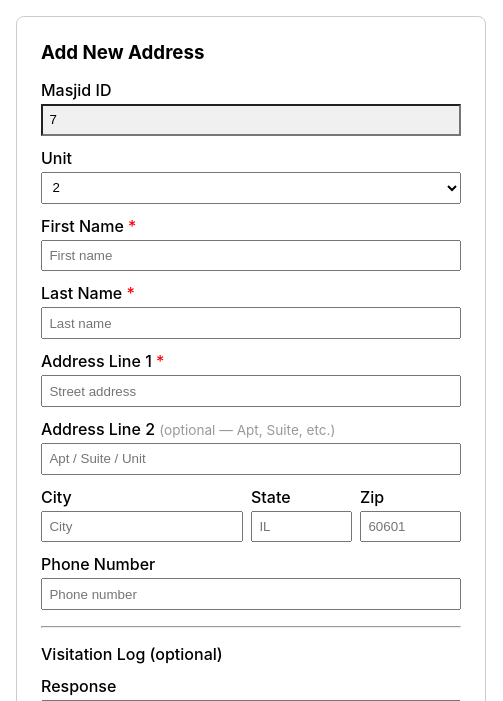
AddAddress duplicate check › allowUpdateExisting: updates the existing listing instead of creating a new one
Type "Yusuf" into the field with placeholder "First Name" at [251, 256], box left=41, top=240, right=461, bottom=271
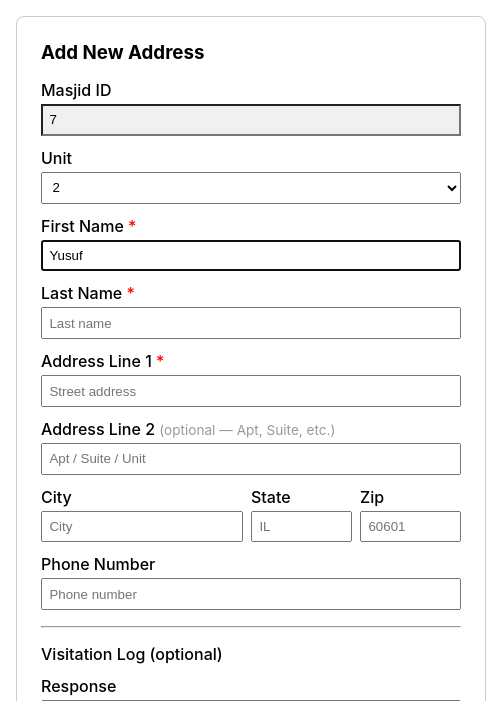
Type "123 Main St" into the field with placeholder "Street address" at [251, 391], box left=41, top=375, right=461, bottom=407
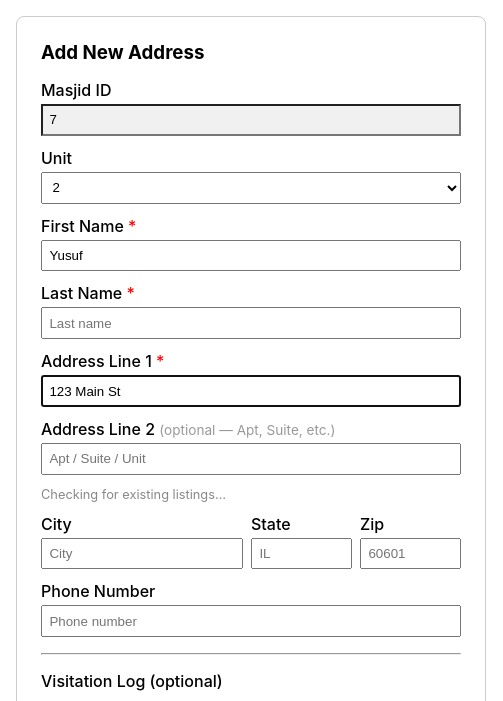
Type "555-1234" into the field with placeholder "Phone Number" at [251, 621], box left=41, top=606, right=461, bottom=637
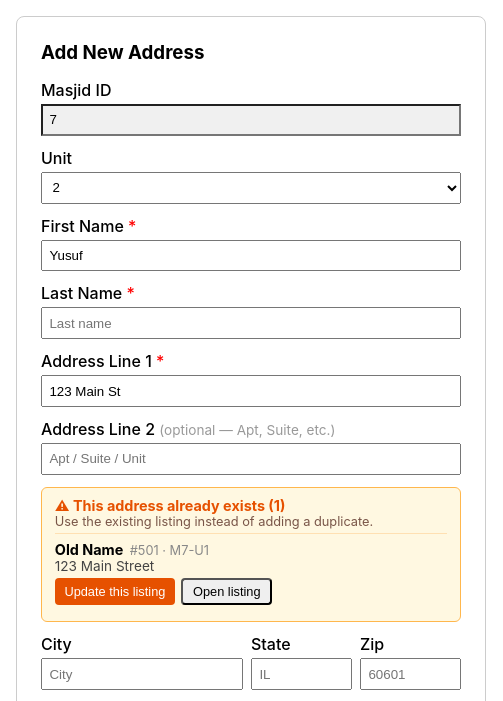
Result: the text "⚠ This address already exists (1)" is shown at left=55, top=497, right=285, bottom=514
Click the button "Update this listing" at [115, 592], box left=55, top=578, right=175, bottom=606
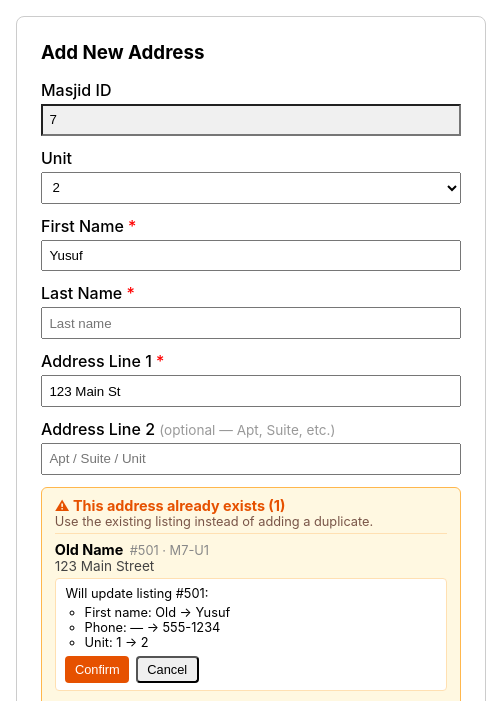
Result: the list item "First name: Old → Yusuf" is shown at left=85, top=605, right=230, bottom=620
Result: the list item "Unit: 1 → 2" is shown at left=85, top=635, right=149, bottom=650
Click the button "Confirm" at [97, 670], box left=65, top=656, right=129, bottom=683
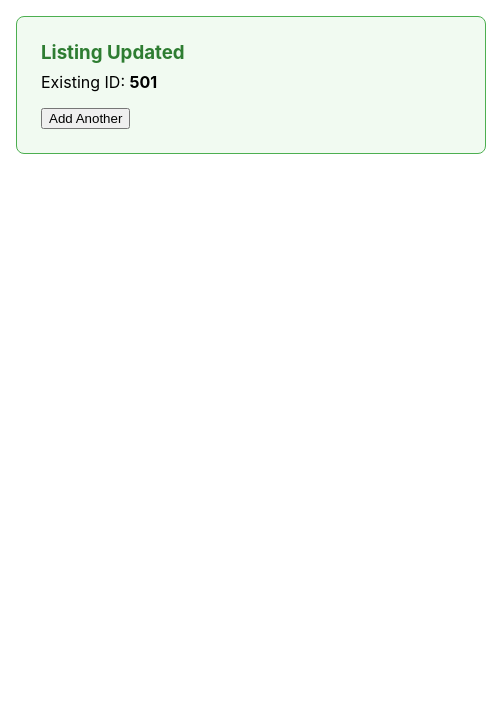
Result: the heading "Listing Updated" is shown at left=41, top=41, right=185, bottom=64
